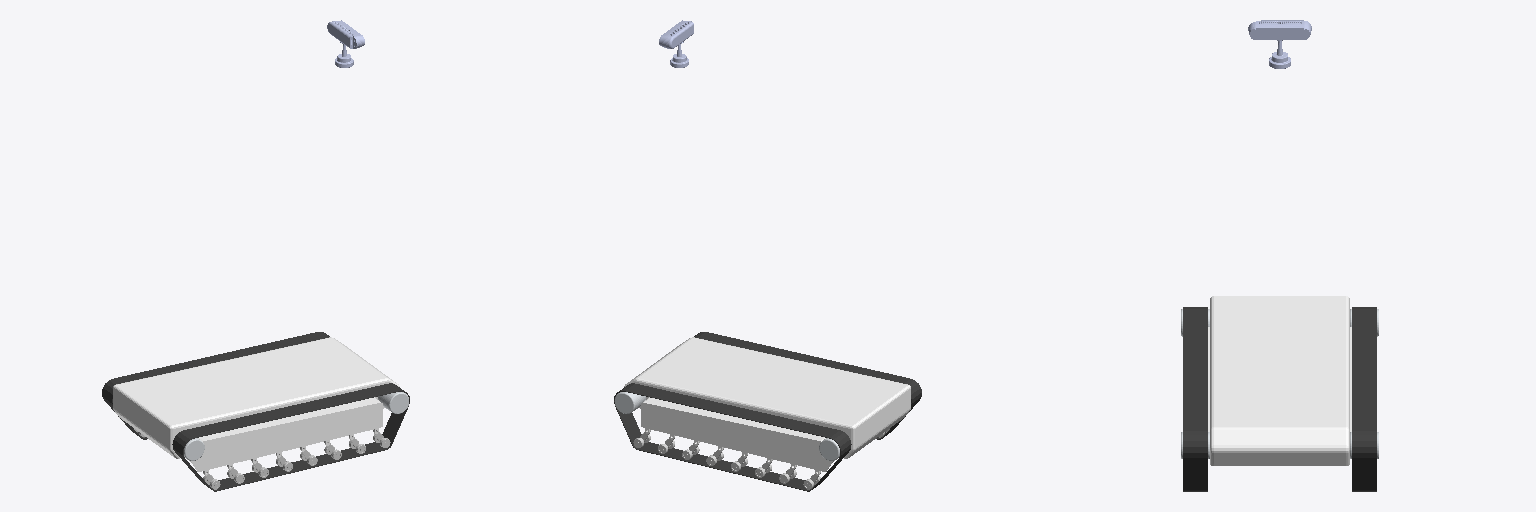
URDF robot description (track_cart):
<?xml version="1.0" encoding="utf-8"?>
<!-- This URDF was automatically created by SolidWorks to URDF Exporter! Originally created by [author] ([email redacted]) 
     Commit Version: 1.6.0-4-g7f85cfe  Build Version: 1.6.7995.38578
     For more information, please see http://wiki.ros.org/sw_urdf_exporter -->
<robot name="track_cart">
  <link name="base_link">
    <inertial>
      <origin xyz="-0.0094017 8.0353E-09 0.01613" rpy="0 0 0" />
      <mass value="10.442" />
      <inertia ixx="0.048567" ixy="-3.7869E-08" ixz="0.0021766" iyy="0.17194" iyz="8.5932E-10" izz="0.21447" />
    </inertial>
    <visual>
      <origin xyz="0 0 0" rpy="0 0 0" />
      <geometry>
        <mesh filename="package://robot_description/meshes/base_link.STL" />
      </geometry>
      <material name="">
        <color rgba="1 1 1 1" />
        <texture filename="package://robot_description/textures/Plastic011_1K_Color.jpg" />
      </material>
    </visual>
    <collision>
      <origin xyz="0 0 0" rpy="0 0 0" />
      <geometry>
        <mesh filename="package://robot_description/meshes/base_link.STL" />
      </geometry>
    </collision>
  </link>
  <link name="left_wheel_link">
    <inertial>
      <origin xyz="1.7347E-18 0.021 0" rpy="0 0 0" />
      <mass value="0.14088" />
      <inertia ixx="3.459E-05" ixy="1.356E-22" ixz="-3.6375E-37" iyy="2.8073E-05" iyz="-1.1977E-21" izz="3.459E-05" />
    </inertial>
    <visual>
      <origin xyz="0 0 0" rpy="0 0 0" />
      <geometry>
        <mesh filename="package://robot_description/meshes/left_wheel_link.STL" />
      </geometry>
      <material name="">
        <color rgba="0.89412 0.91373 0.92941 1" />
        <texture filename="package://robot_description/textures/Metal011_1K_Color.jpg" />
      </material>
    </visual>
    <collision>
      <origin xyz="0 0 0" rpy="0 0 0" />
      <geometry>
        <mesh filename="package://robot_description/meshes/left_wheel_link.STL" />
      </geometry>
    </collision>
  </link>
  <joint name="left_wheel_joint" type="fixed">
    <origin xyz="-0.203430162144383 0.0999999999999995 0.0188560646381767" rpy="0 0 0" />
    <parent link="base_link" />
    <child link="left_wheel_link" />
    <axis xyz="0 -1 0" />
  </joint>
  <link name="right_wheel_link">
    <inertial>
      <origin xyz="5.2042E-18 0.021 0" rpy="0 0 0" />
      <mass value="0.14088" />
      <inertia ixx="3.459E-05" ixy="-1.761E-22" ixz="-4.6703E-37" iyy="2.8073E-05" iyz="1.1977E-21" izz="3.459E-05" />
    </inertial>
    <visual>
      <origin xyz="0 0 0" rpy="0 0 0" />
      <geometry>
        <mesh filename="package://robot_description/meshes/right_wheel_link.STL" />
      </geometry>
      <material name="">
        <color rgba="0.89412 0.91373 0.92941 1" />
        <texture filename="package://robot_description/textures/Metal011_1K_Color.jpg" />
      </material>
    </visual>
    <collision>
      <origin xyz="0 0 0" rpy="0 0 0" />
      <geometry>
        <mesh filename="package://robot_description/meshes/right_wheel_link.STL" />
      </geometry>
    </collision>
  </link>
  <joint name="right_wheel_joint" type="fixed">
    <origin xyz="-0.203430162144383 -0.142000000000001 0.0188560646381767" rpy="0 0 0" />
    <parent link="base_link" />
    <child link="right_wheel_link" />
    <axis xyz="0 1 0" />
  </joint>
  <link name="camera_link">
    <inertial>
      <origin xyz="-0.012036 0.001259 -0.023045" rpy="0 0 0" />
      <mass value="0.022518" />
      <inertia ixx="1.0002E-05" ixy="1.8784E-07" ixz="-2.7793E-08" iyy="2.5528E-06" iyz="-7.338E-09" izz="8.95E-06" />
    </inertial>
    <visual>
      <origin xyz="0 0 0" rpy="0 0 0" />
      <geometry>
        <mesh filename="package://robot_description/meshes/camera_link.STL" />
      </geometry>
      <material name="">
        <color rgba="0.79216 0.81961 0.93333 1" />
        <texture filename="package://robot_description/textures/Metal009_1K_Color.jpg" />
      </material>
    </visual>
    <collision>
      <origin xyz="0 0 0" rpy="0 0 0" />
      <geometry>
        <mesh filename="package://robot_description/meshes/camera_link.STL" />
      </geometry>
    </collision>
  </link>
  <joint name="camera_joint" type="fixed">
    <!-- <origin xyz="0.187658698280417 -0.0010000000000005 0.0983819003855137" rpy="0 0 0" /> -->
    <origin xyz="0.187658698280417 -0.0010000000000005 0.6583819003855137" rpy="0 0 0" />
    <parent link="base_link" />
    <child link="camera_link" />
    <axis xyz="0 0 0" />
  </joint>
  <link name="support_wheel_link">
    <inertial>
      <origin xyz="0.0068516 -5.5511E-16 -0.054115" rpy="0 0 0" />
      <mass value="0.24393" />
      <inertia ixx="4.9711E-05" ixy="-9.8842E-22" ixz="1.019E-05" iyy="3.5616E-05" iyz="-7.4531E-21" izz="2.995E-05" />
    </inertial>
    <visual>
      <origin xyz="0 0 0" rpy="0 0 0" />
      <geometry>
        <mesh filename="package://robot_description/meshes/support_wheel_link.STL" />
      </geometry>
      <material name="">
        <color rgba="0.85098 0.85098 0.85098 1" />
        <texture filename="package://robot_description/textures/Metal032_1K_Color.jpg" />
      </material>
    </visual>
    <collision>
      <origin xyz="0 0 0" rpy="0 0 0" />
      <geometry>
        <mesh filename="package://robot_description/meshes/support_wheel_link.STL" />
      </geometry>
    </collision>
  </link>
  <joint name="support_wheel_joint" type="fixed">
    <origin xyz="0 0 0" rpy="0 0 0" />
    <parent link="base_link" />
    <child link="support_wheel_link" />
    <axis xyz="0 0 0" />
  </joint>
  <link name="big_support_wheel_link">
    <inertial>
      <origin xyz="0.20115 -5.5511E-16 0.012939" rpy="0 0 0" />
      <mass value="0.28176" />
      <inertia ixx="6.9181E-05" ixy="-7.9452E-22" ixz="1.7078E-53" iyy="5.6146E-05" iyz="1.044E-52" izz="6.9181E-05" />
    </inertial>
    <visual>
      <origin xyz="0 0 0" rpy="0 0 0" />
      <geometry>
        <mesh filename="package://robot_description/meshes/big_support_wheel_link.STL" />
      </geometry>
      <material name="">
        <color rgba="0.89412 0.91373 0.92941 1" />
        <texture filename="package://robot_description/textures/Metal011_1K_Color.jpg" />
      </material>
    </visual>
    <collision>
      <origin xyz="0 0 0" rpy="0 0 0" />
      <geometry>
        <mesh filename="package://robot_description/meshes/big_support_wheel_link.STL" />
      </geometry>
    </collision>
  </link>
  <joint name="big_support_wheel_joint" type="fixed">
    <origin xyz="0 0 0" rpy="0 0 0" />
    <parent link="base_link" />
    <child link="big_support_wheel_link" />
    <axis xyz="0 0 0" />
  </joint>
  <link name="track_link">
    <inertial>
      <origin xyz="0.0001348 -1.1102E-15 -0.011854" rpy="0 0 0" />
      <mass value="0.09681" />
      <inertia ixx="0.00024241" ixy="-6.3704E-20" ixz="3.5167E-05" iyy="0.0021604" iyz="1.7284E-19" izz="0.0019389" />
    </inertial>
    <visual>
      <origin xyz="0 0 0" rpy="0 0 0" />
      <geometry>
        <mesh filename="package://robot_description/meshes/track_link.STL" />
      </geometry>
      <material name="">
        <color rgba="0.29804 0.29804 0.29804 1" />
        <texture filename="package://robot_description/textures/Plastic012A_1K_Color.jpg" />
      </material>
    </visual>
    <collision>
      <origin xyz="0 0 0" rpy="0 0 0" />
      <geometry>
        <mesh filename="package://robot_description/meshes/track_link.STL" />
      </geometry>
    </collision>
  </link>
  <joint name="track_joint" type="fixed">
    <origin xyz="0 0 0" rpy="0 0 0" />
    <parent link="base_link" />
    <child link="track_link" />
    <axis xyz="0 0 0" />
  </joint>
</robot>

--- What the picture shows (computed from the rendered views, not written in the file) ---
3 views of the same robot in one strip: view 1: azimuth 30°, elevation 25°; view 2: azimuth 150°, elevation 25°; view 3: azimuth 270°, elevation 25° (orthographic).
Model track_cart with 7 links and 6 joints (6 fixed), rooted at base_link, posed every joint at zero.
Visible links, largest first — view 1: base_link, track_link, support_wheel_link, camera_link; view 2: base_link, track_link, support_wheel_link, camera_link; view 3: base_link, track_link, camera_link.
Boxes of the visible links, left/top/right/bottom form: base_link: left=113, top=337, right=399, bottom=475; track_link: left=102, top=332, right=409, bottom=491; support_wheel_link: left=134, top=429, right=390, bottom=489; camera_link: left=327, top=20, right=364, bottom=67; base_link: left=624, top=337, right=910, bottom=475; track_link: left=614, top=332, right=921, bottom=491; support_wheel_link: left=633, top=429, right=889, bottom=489; camera_link: left=659, top=20, right=693, bottom=67; base_link: left=1208, top=296, right=1351, bottom=465; track_link: left=1183, top=307, right=1376, bottom=491; camera_link: left=1248, top=20, right=1311, bottom=68.
Bounding box of the posed robot: 0.458 × 0.284 × 0.7403 m (x, y, z).
7 mesh visuals loaded from 7 distinct referenced files (7 binary STL).
